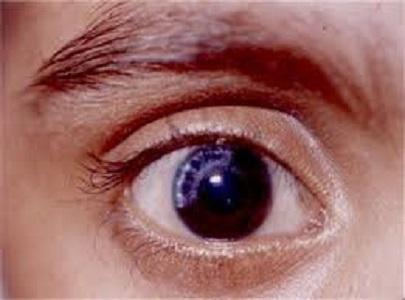open: (87, 102, 346, 274)
